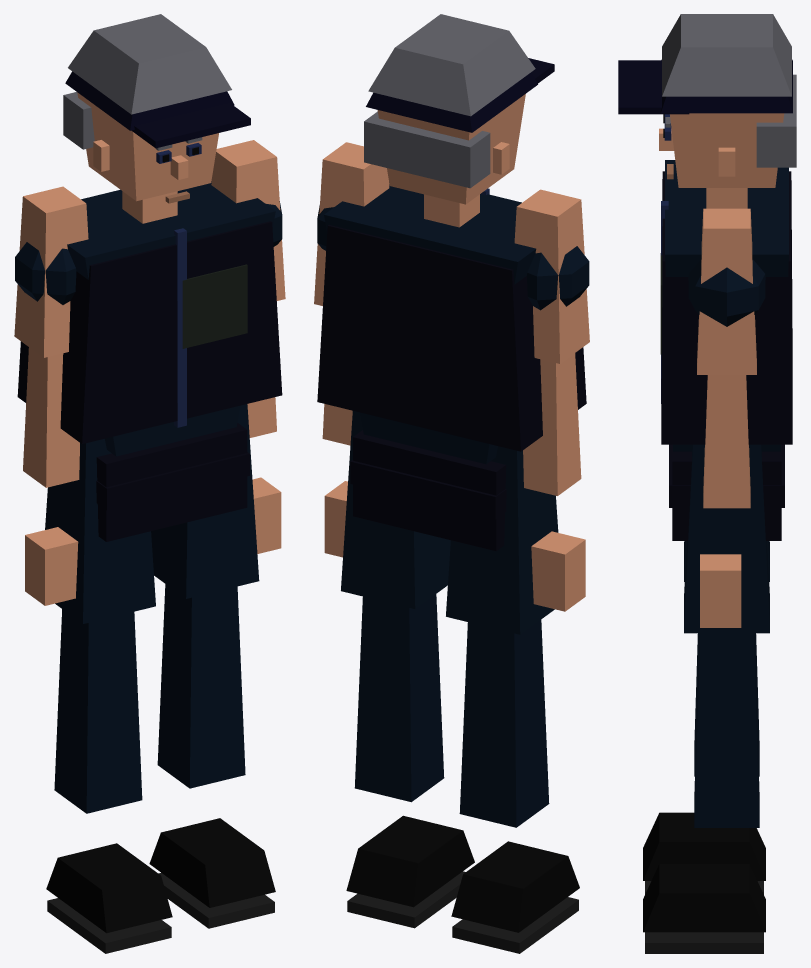
The model's file is npc_cop.glb.
3 views of the same model, side by side, from view 1: azimuth 30°, elevation 25°; view 2: azimuth 150°, elevation 25°; view 3: azimuth 270°, elevation 25° (orthographic).
Visible parts, largest first — view 1: torso, head, lowerLegL, lowerLegR, hips, footR, upperLegR, footL, upperArmR, foreArmR, upperLegL, upperArmL (+1 smaller); view 2: torso, head, lowerLegR, lowerLegL, hips, upperLegR, footR, footL, upperArmR, foreArmR, upperLegL, upperArmL (+1 smaller); view 3: head, torso, lowerLegL, footL, upperArmL, upperLegL, foreArmL, footR, hips, lowerLegR.
Part boxes in pixels (x1,y1,x2,y2): torso: (17, 181, 282, 456); head: (63, 14, 250, 203); lowerLegL: (157, 584, 245, 788); lowerLegR: (54, 609, 142, 813); hips: (96, 423, 249, 541); footR: (46, 843, 172, 953); upperLegR: (45, 439, 155, 623); footL: (149, 818, 275, 928); upperArmR: (14, 186, 88, 357); foreArmR: (23, 347, 79, 605); upperLegL: (151, 404, 259, 598); upperArmL: (211, 140, 285, 300); torso: (317, 184, 586, 464); head: (364, 14, 554, 204); lowerLegR: (459, 620, 549, 827); lowerLegL: (354, 594, 444, 802); hips: (350, 430, 506, 551); upperLegR: (446, 446, 558, 634); footR: (451, 841, 579, 953); footL: (346, 815, 474, 928); upperArmR: (514, 189, 589, 363); foreArmR: (523, 353, 585, 611); upperLegL: (341, 411, 450, 608); upperArmL: (314, 142, 389, 305); head: (618, 14, 796, 187); torso: (660, 160, 792, 451); lowerLegL: (694, 633, 759, 827); footL: (643, 864, 765, 953); upperArmL: (688, 208, 765, 374); upperLegL: (684, 444, 769, 633); foreArmL: (700, 375, 750, 627); footR: (643, 812, 765, 894); hips: (669, 444, 784, 540); lowerLegR: (694, 633, 759, 776).
Size of the model in its own units: 0.551 by 1.78 by 0.3262.
